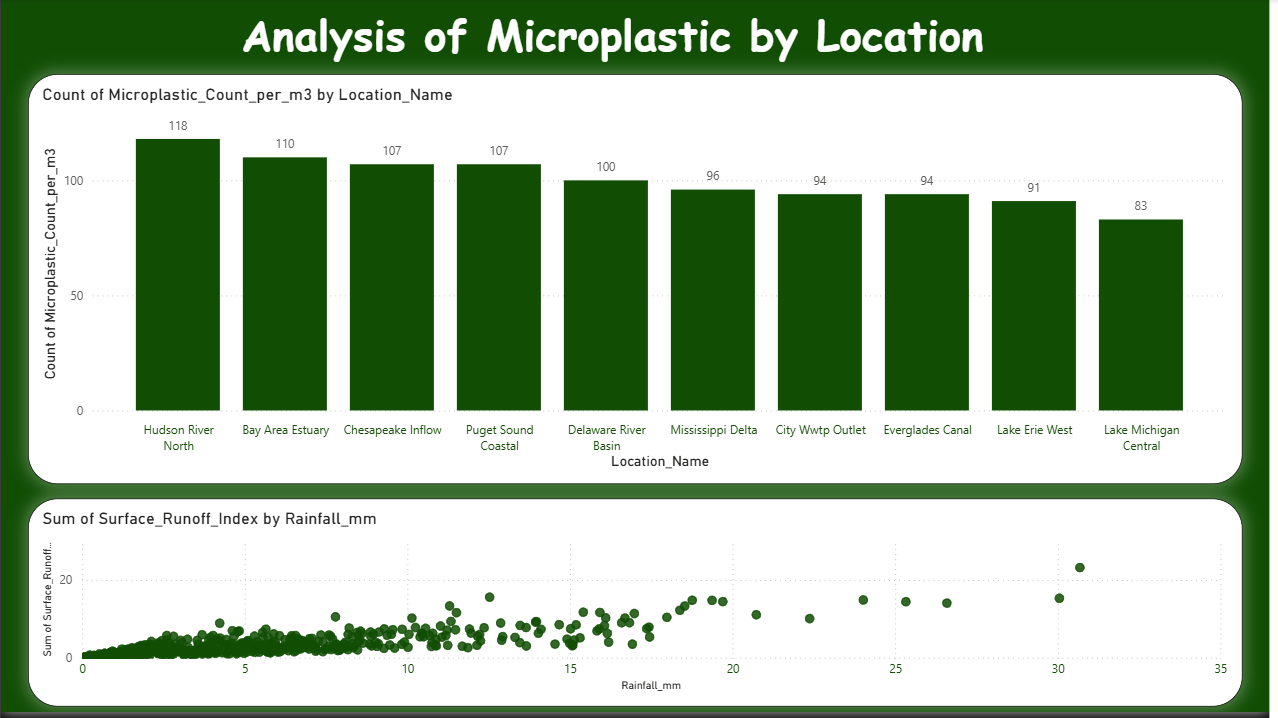

The page's visual inventory and layout, read from the dashboard file:
{"tool":"powerbi","page":{"name":"Microplastic Analysis","canvas":[1280,720],"ordinal":3},"visuals":[{"type":"clusteredColumnChart","fields":{"Category":["DIM_Locations.Location_Name"],"Y":["CountNonNull(Fact_Water_Samples.Microplastic_Count_per_m3)"]},"box":[28,76,1226,414],"z":0},{"type":"scatterChart","fields":{"Y":["Sum(DIM_Weather.Surface_Runoff_Index)"],"X":["DIM_Weather.Rainfall_mm"]},"box":[28,504,1226,210],"z":1000},{"type":"textbox","box":[238,0,996,480],"z":1001}]}

Visuals, with their boxes in screenshot pixels (x1, y1, x2, y2), scaled from the page's 1280x720 canvas onto the 1278x718 screenshot:
clusteredColumnChart - DIM_Locations.Location_Name x CountNonNull(Fact_Water_Samples.Microplastic_Count_per_m3): pyautogui.locateOnScreen(28, 76, 1252, 489)
scatterChart - Sum(DIM_Weather.Surface_Runoff_Index) x DIM_Weather.Rainfall_mm: pyautogui.locateOnScreen(28, 503, 1252, 712)
textbox: pyautogui.locateOnScreen(238, 0, 1232, 479)
